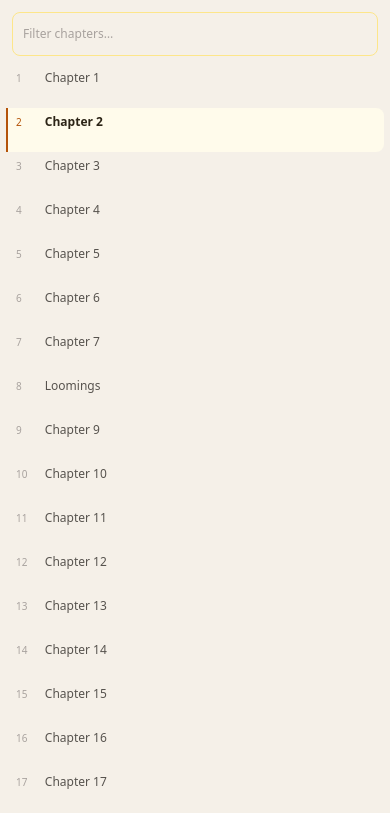
Scenario: TableOfContents › filters by title text
The width and height of the screenshot is (390, 813).
Type "loom" into the search field. click: (195, 34)
box: [12,12,378,56]
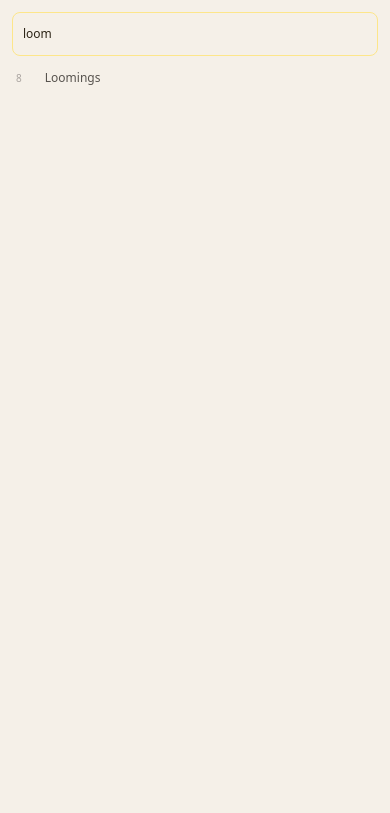
Expected: the button shows "Loomings", [6,64,384,108]
Now the number of buttons is 1, box [6,64,384,108]
